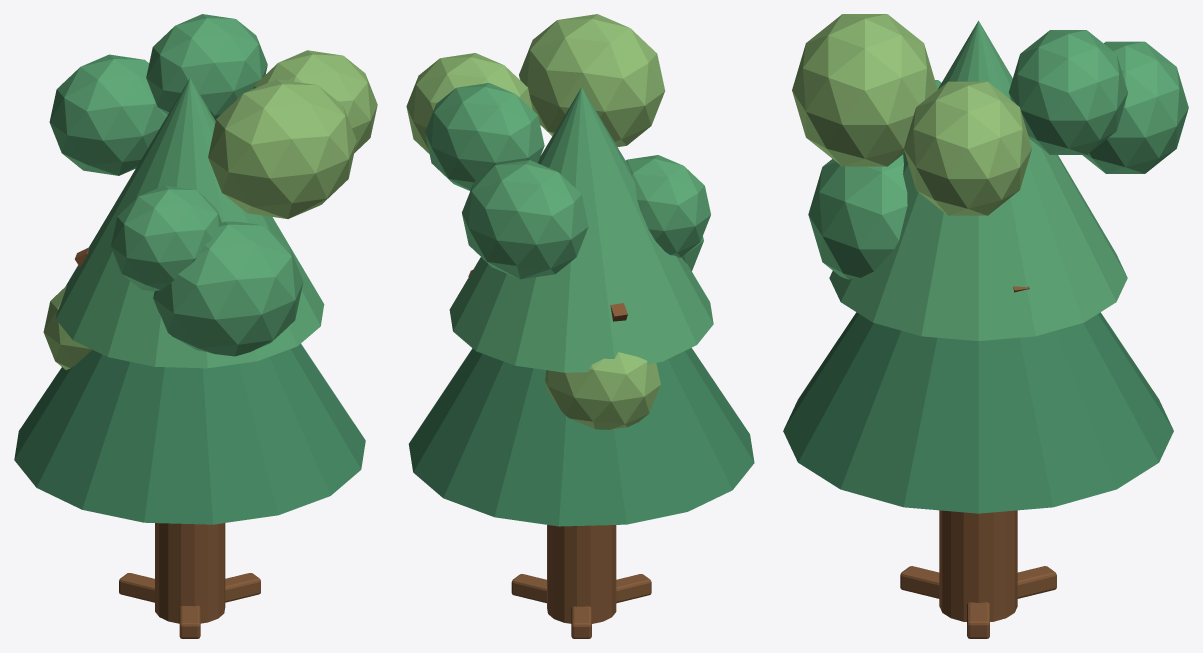
The model's file is NAT_TREE_PINE_1x1_001.glb.
The picture shows the model from 3 angles, left to right: view 1: azimuth 30°, elevation 25°; view 2: azimuth 150°, elevation 25°; view 3: azimuth 270°, elevation 25°; orthographic projection. The views are drawn at different scales.
Parts seen in each view (by area): view 1: NAT_TREE_PINE_1x1_001_Visual; view 2: NAT_TREE_PINE_1x1_001_Visual; view 3: NAT_TREE_PINE_1x1_001_Visual.
Boxes of the visible parts, <box> form: NAT_TREE_PINE_1x1_001_Visual: <box>14,14,377,638</box>; NAT_TREE_PINE_1x1_001_Visual: <box>406,14,754,638</box>; NAT_TREE_PINE_1x1_001_Visual: <box>783,14,1188,638</box>.
Size of what is drawn, in the model's own units: 1.17 by 1.89 by 1.14.
